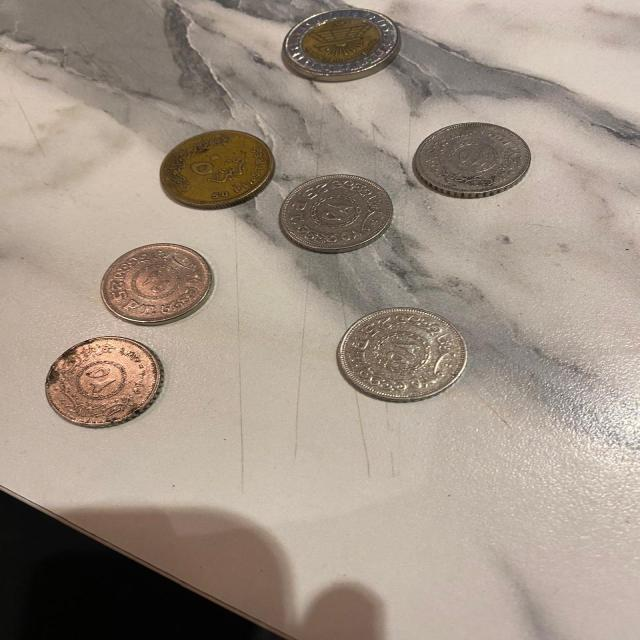Half Pound: (152, 126, 280, 210)
One Pound: (272, 4, 404, 82)
quarter pound: (336, 307, 468, 402), (45, 338, 164, 428), (274, 172, 398, 251), (100, 242, 213, 324), (411, 122, 531, 198)
